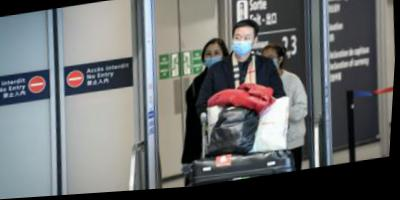OK: (232, 35, 256, 62), (262, 57, 281, 78)
WRONG: (204, 51, 227, 76)
